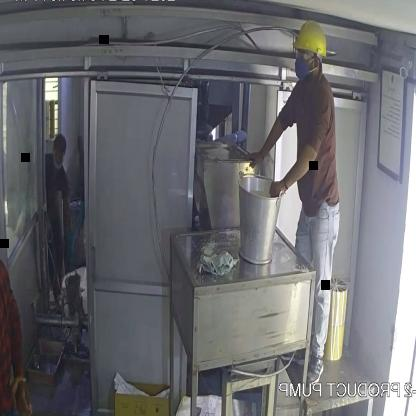helmet: (291, 18, 332, 62)
